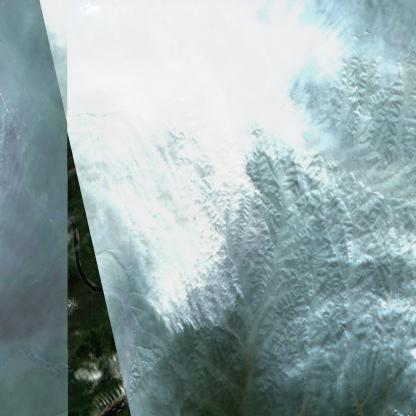fire: (140, 123, 276, 342)
